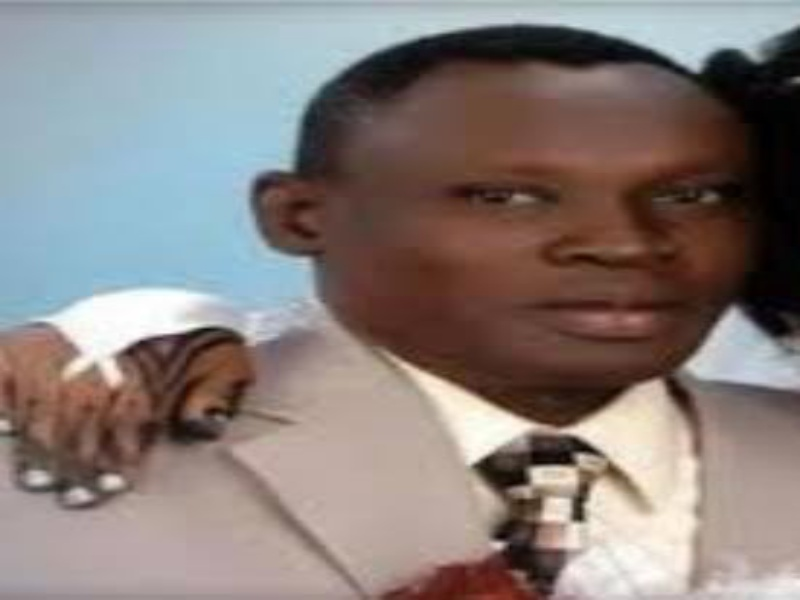TsisyArotava: (244, 9, 783, 433)
